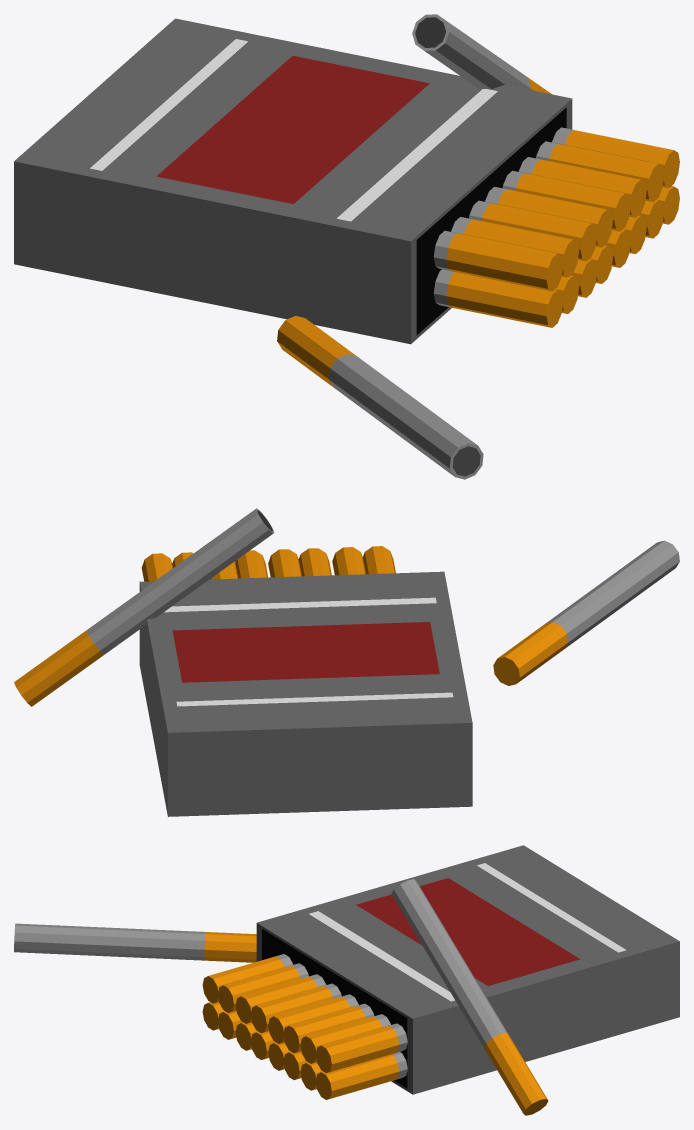
Rendered from cigs.fbx.
The picture shows the model from 3 angles, top to bottom: view 1: azimuth 30°, elevation 25°; view 2: azimuth 150°, elevation 25°; view 3: azimuth 270°, elevation 25°; orthographic projection. The views are drawn at different scales.
Visible parts, largest first — view 1: Cube, Cylinder.002, Cylinder.001; view 2: Cube, Cylinder.001, Cylinder.002; view 3: Cube, Cylinder.001, Cylinder.002.
Part boxes in pixels (box(x1,y1,x2,y2)): Cube: box(14, 18, 679, 344); Cylinder.002: box(277, 316, 483, 479); Cylinder.001: box(412, 14, 551, 94); Cube: box(139, 546, 472, 816); Cylinder.001: box(14, 508, 274, 706); Cylinder.002: box(493, 540, 679, 685); Cube: box(202, 845, 679, 1099); Cylinder.001: box(391, 879, 548, 1115); Cylinder.002: box(14, 923, 256, 962).
Bounding box in the file's own units: 342 × 133 × 482.
